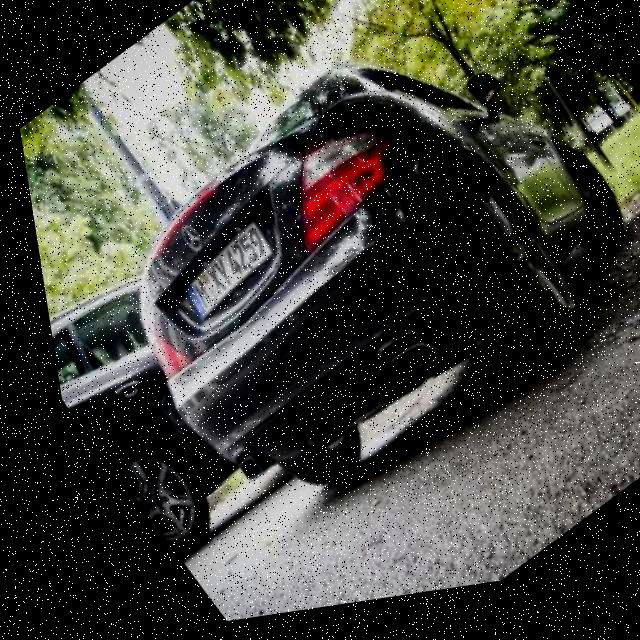license_plate: (156, 222, 279, 327)
